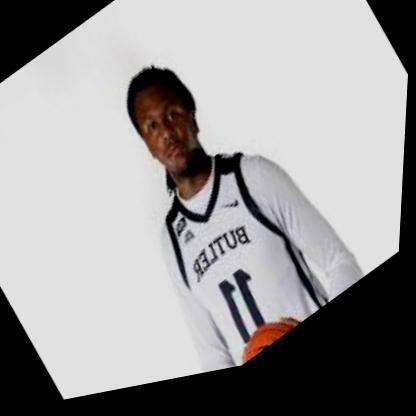basketball: (233, 314, 303, 376)
